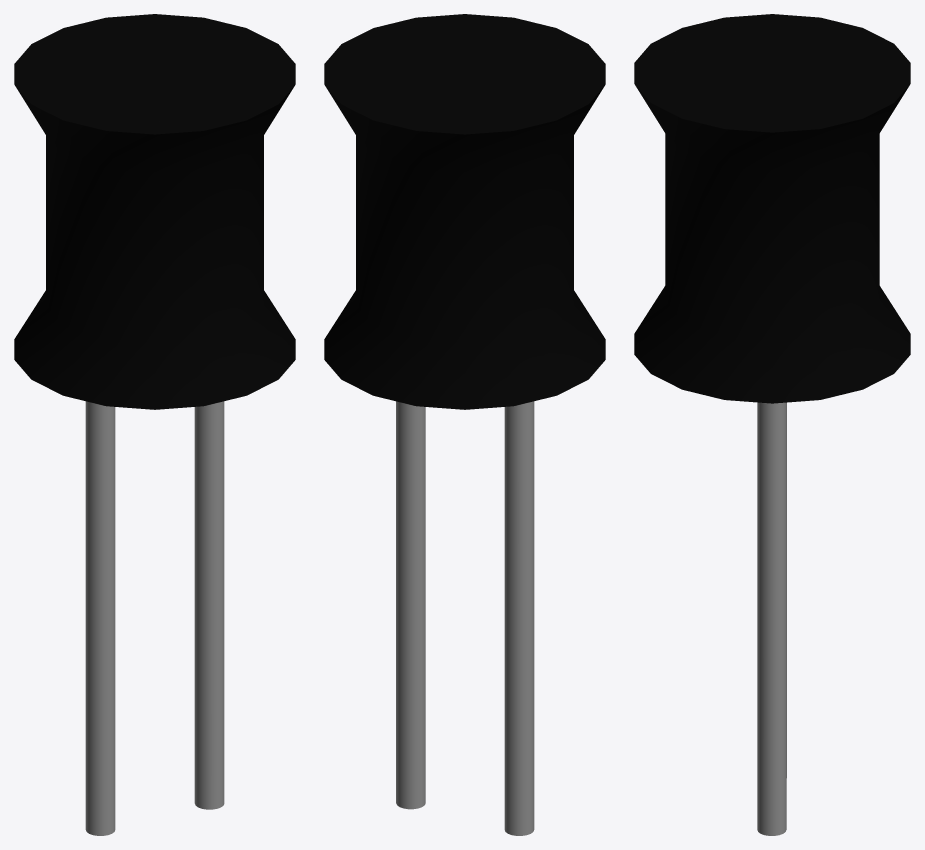
The model's file is indutor.FBX.
3 renders of one model, left to right at view 1: azimuth 30°, elevation 25°; view 2: azimuth 150°, elevation 25°; view 3: azimuth 270°, elevation 25°, orthographic.
Parts seen in each view (by area): view 1: Cylinder001; view 2: Cylinder001; view 3: Cylinder001.
Part boxes in pixels (x1,y1,x2,y2): Cylinder001: (14,14,295,835); Cylinder001: (324,14,605,835); Cylinder001: (634,14,910,835).
Size of the model in its own units: 26.81 by 76.94 by 26.4.
Materials: 1 (1 with a texture image).
